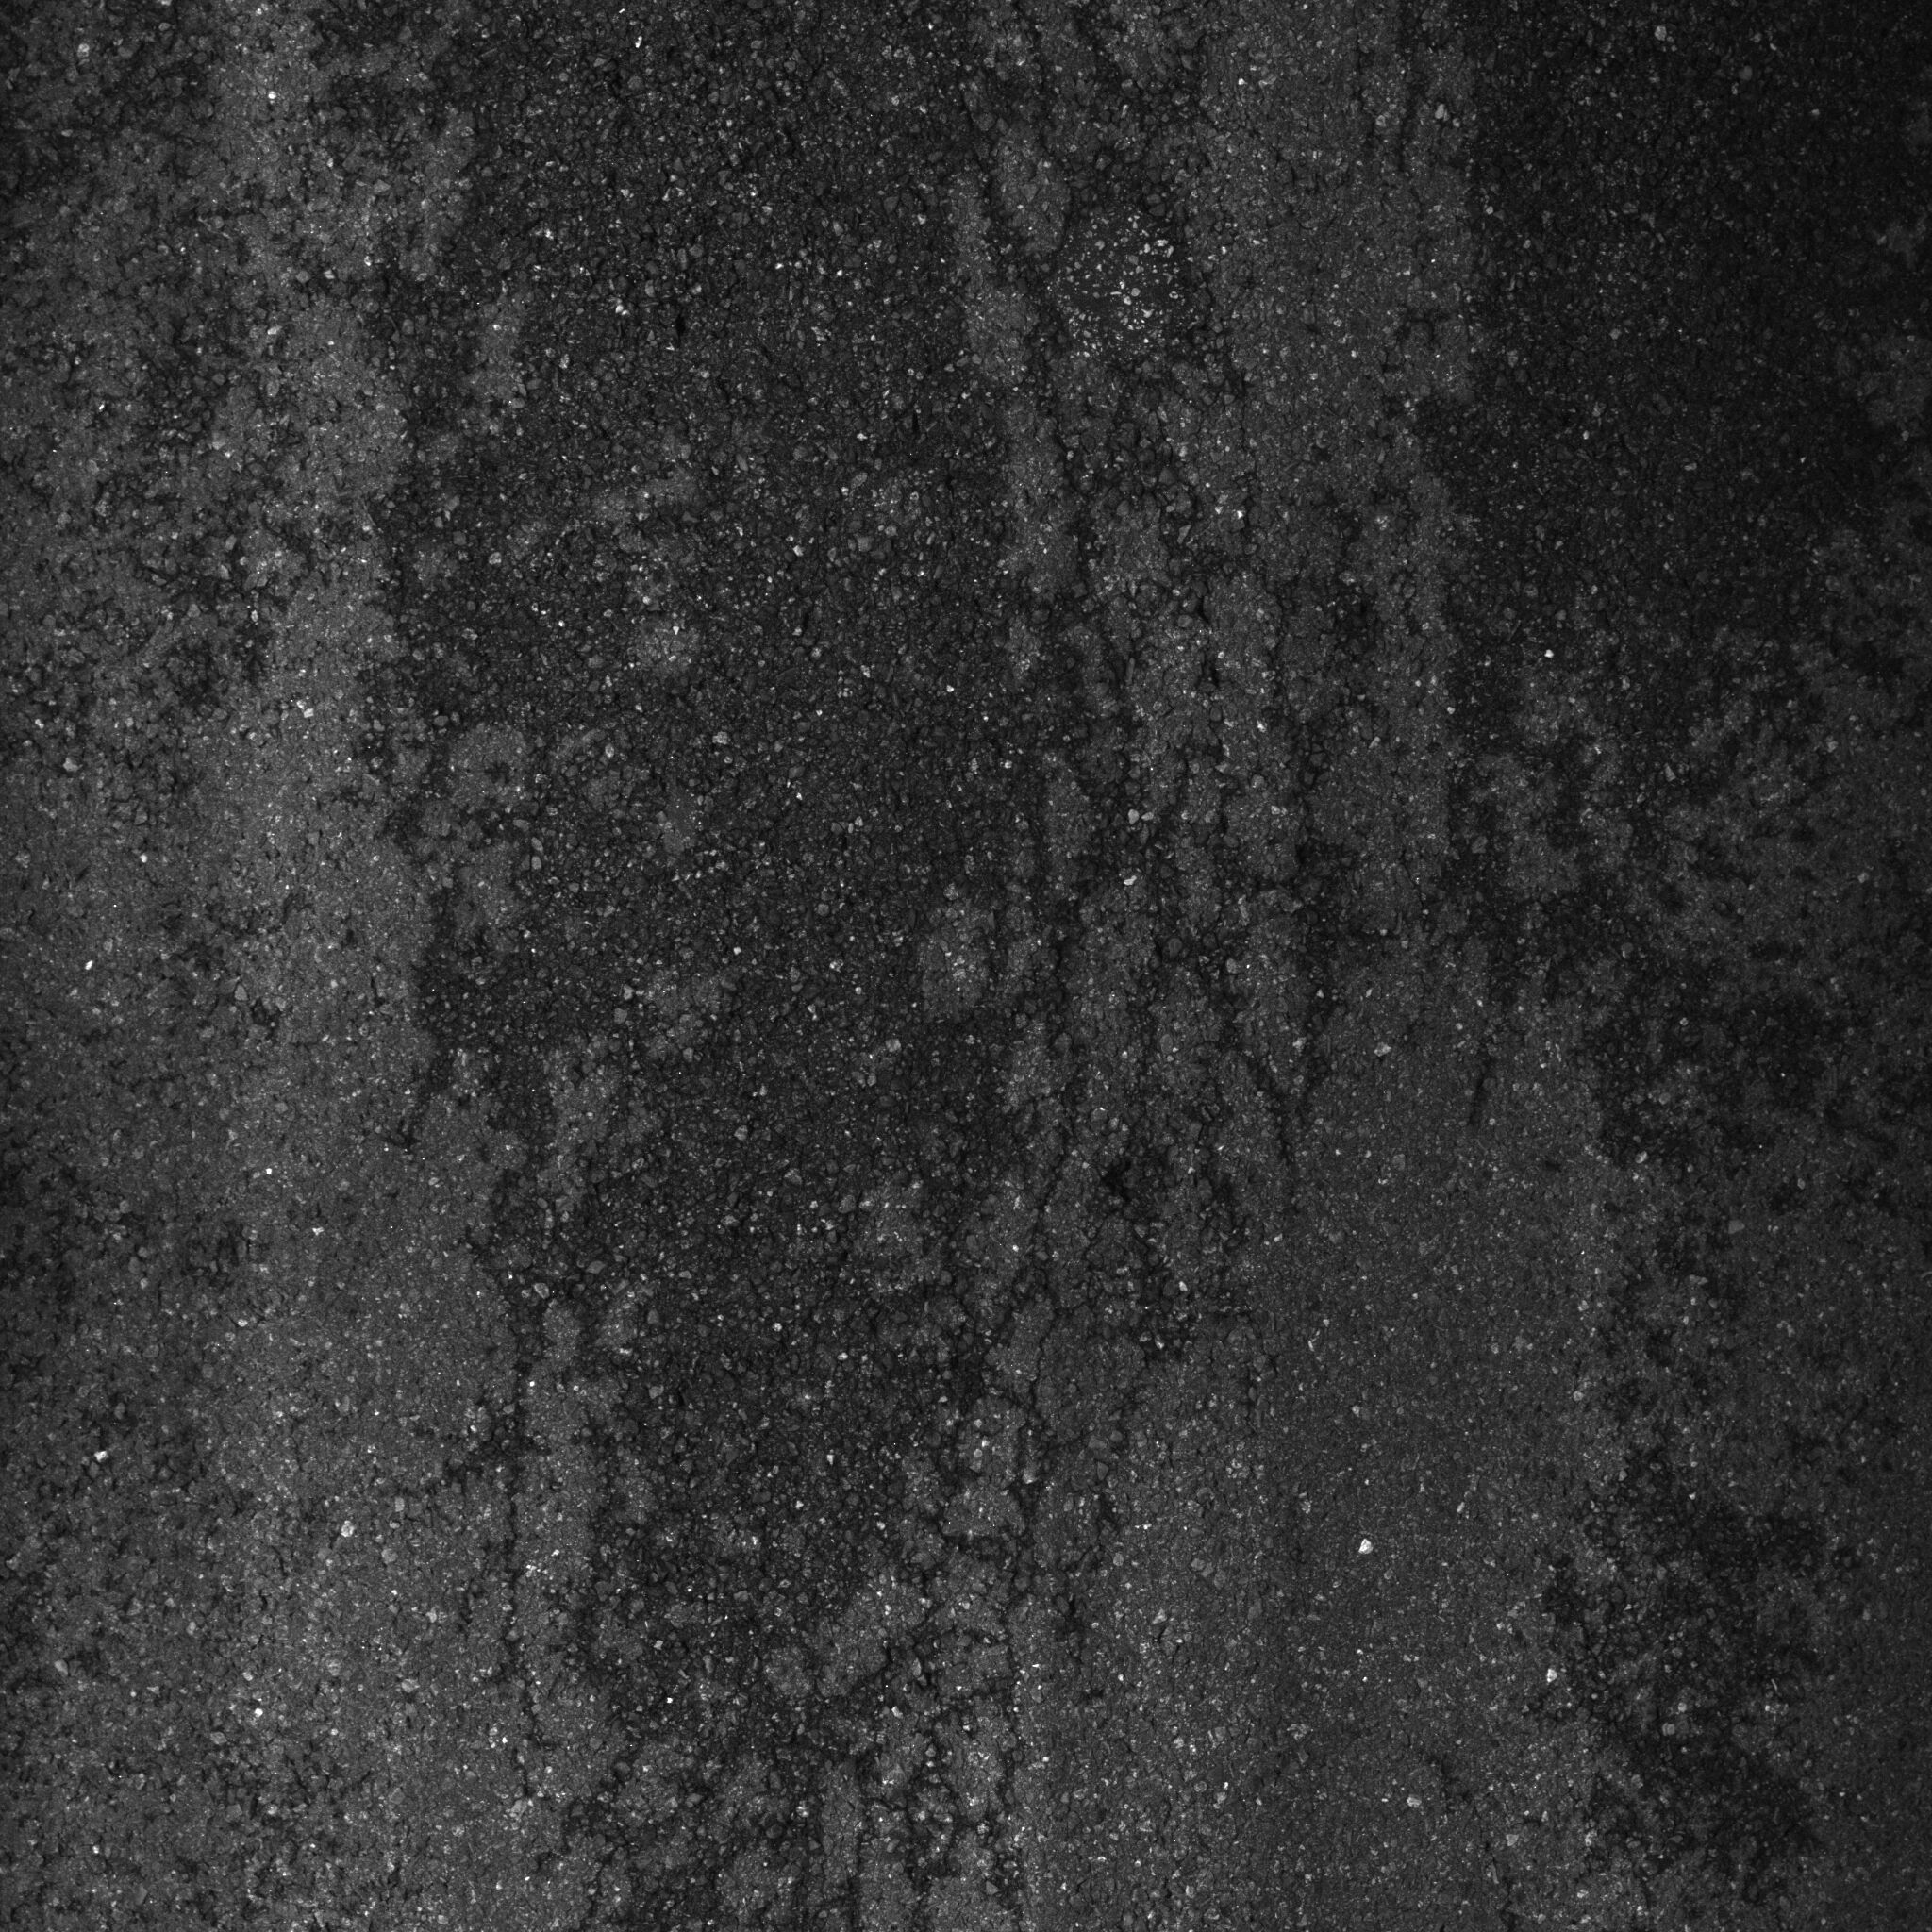alligator: (320, 2, 1789, 1925)
